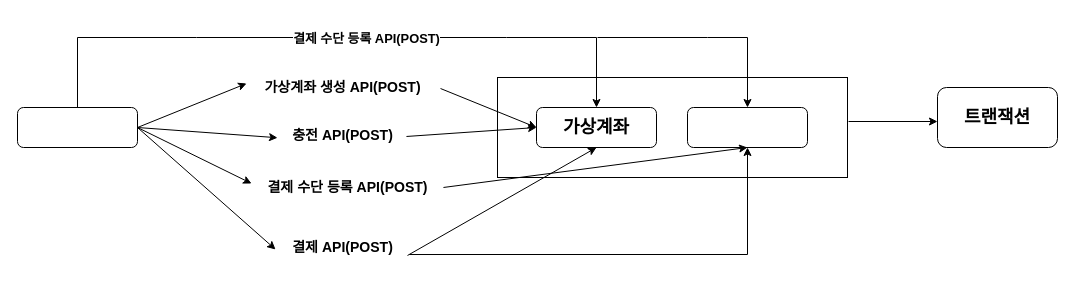
This 1075x294 diagram has some shape labels left out. The shapes that lost their labels are listed below. From the top down, each one's centre as x and y in pixels, then its label:
(77,127): 사용자
(747,127): 비 가상 계좌
